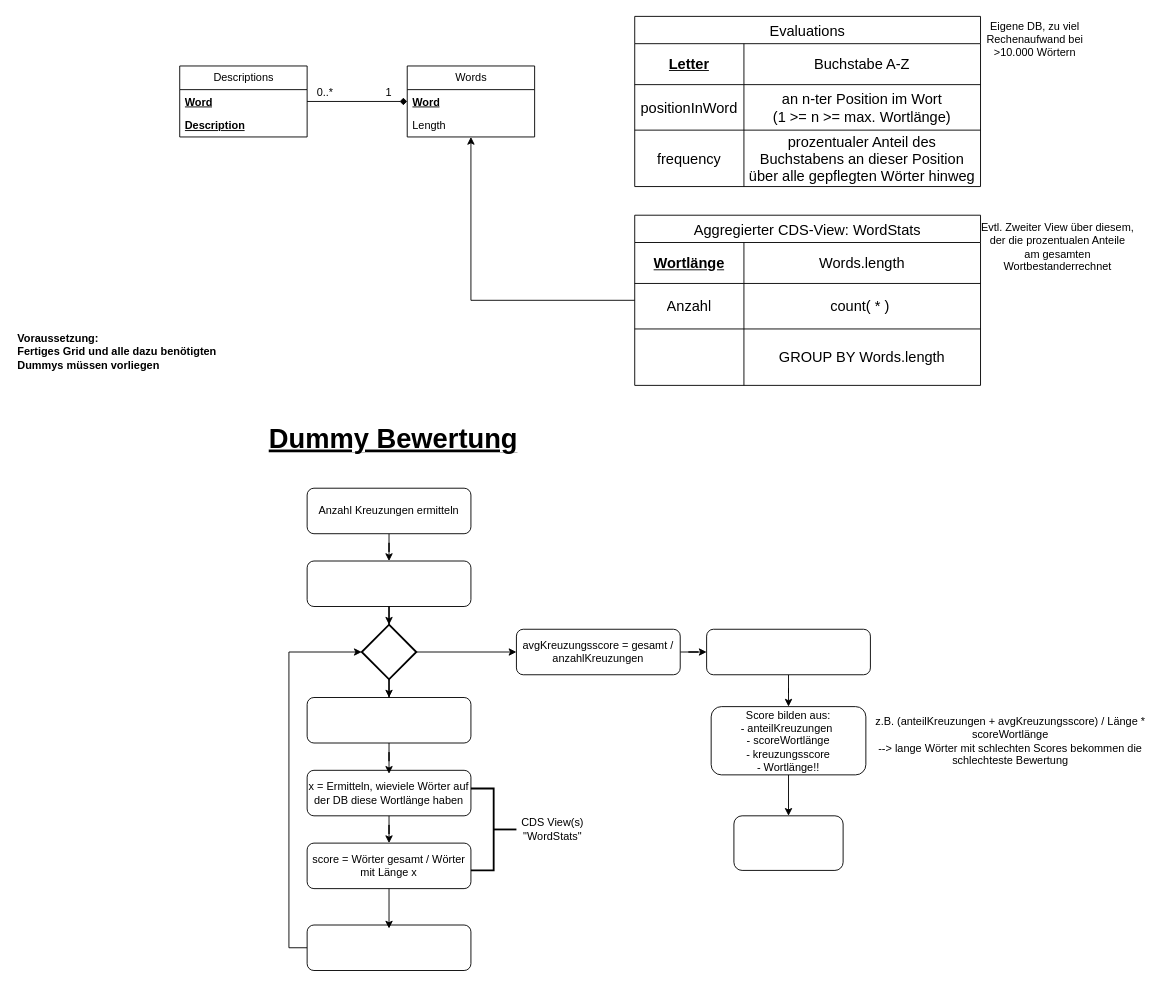
This 1168x986 diagram has some shape labels left out. The shapes that lost their labels are listed below. From the top down, each one's centre as x and y in pixels, then its label:
At point (388, 583): "anteilKreuzungen = Kreuzungen / Wortlänge".
At point (788, 651): "scoreWortlänge = prozentualer Anteil der Dummy-Wortlänge am gesamten Wortbestand".
At point (388, 720): "Länge des kreuzenden Wortes ermitteln".
At point (788, 842): "Dummys sortieren nach schlechtestem Score".
At point (388, 947): "gesamt += score".
